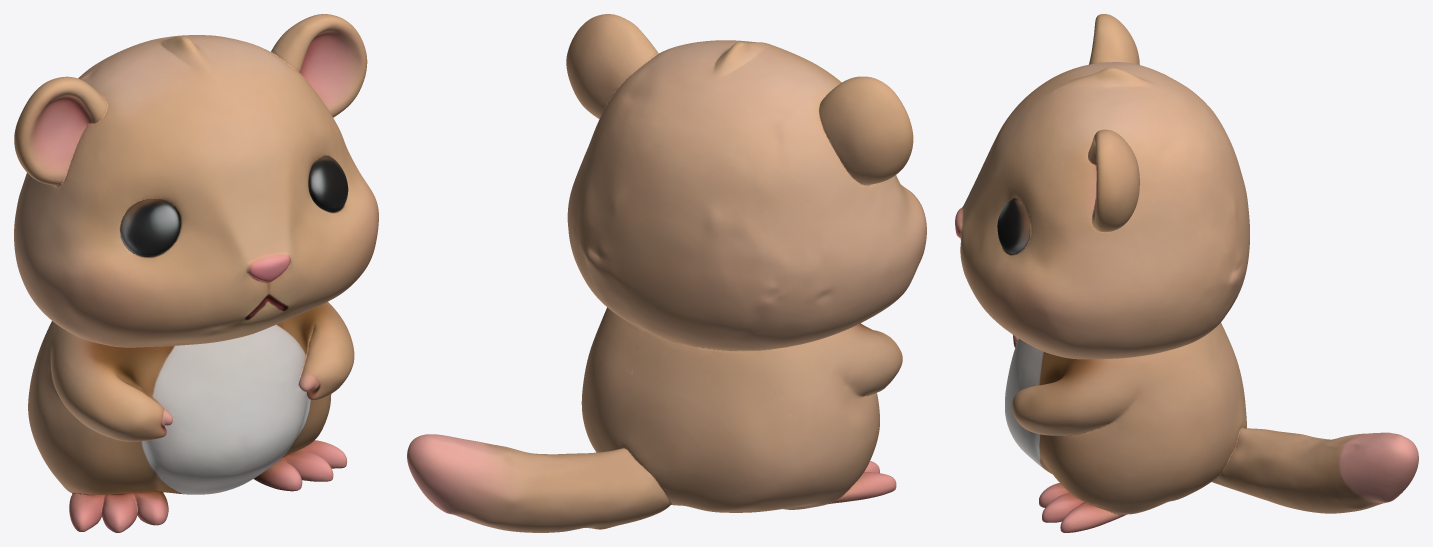
File: MON_SANDRAT_01.glb
The picture shows the model from 3 angles, left to right: view 1: azimuth 30°, elevation 25°; view 2: azimuth 150°, elevation 25°; view 3: azimuth 270°, elevation 25°; orthographic projection. The views are drawn at different scales.
Parts seen in each view (by area): view 1: model; view 2: model; view 3: model.
Part boxes in pixels (bbox=[...]): model: bbox=[14, 14, 378, 532]; model: bbox=[407, 14, 926, 532]; model: bbox=[955, 14, 1418, 532].
Size of the model in its own units: 1.43 by 1.72 by 1.78.
1 material, 1 textured.
